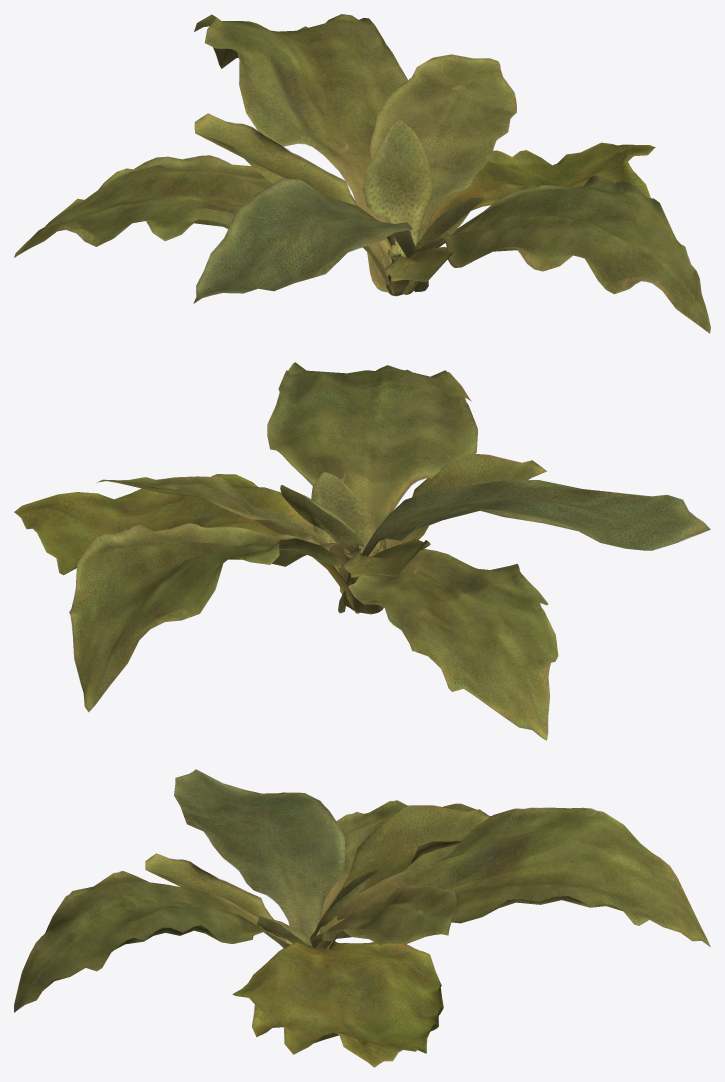
Rendered from nama_iceplant.glb.
3 renders of one model, top to bottom at view 1: azimuth 30°, elevation 25°; view 2: azimuth 150°, elevation 25°; view 3: azimuth 270°, elevation 25°, orthographic. The views are drawn at different scales.
Visible parts, largest first — view 1: nama_iceplant; view 2: nama_iceplant; view 3: nama_iceplant.
Boxes of the visible parts, <box> form: nama_iceplant: <box>14,14,710,333</box>; nama_iceplant: <box>14,362,710,740</box>; nama_iceplant: <box>14,769,710,1067</box>.
Size of the model in its own units: 0.5389 by 0.158 by 0.6162.
Materials: 1 (1 with a texture image).
